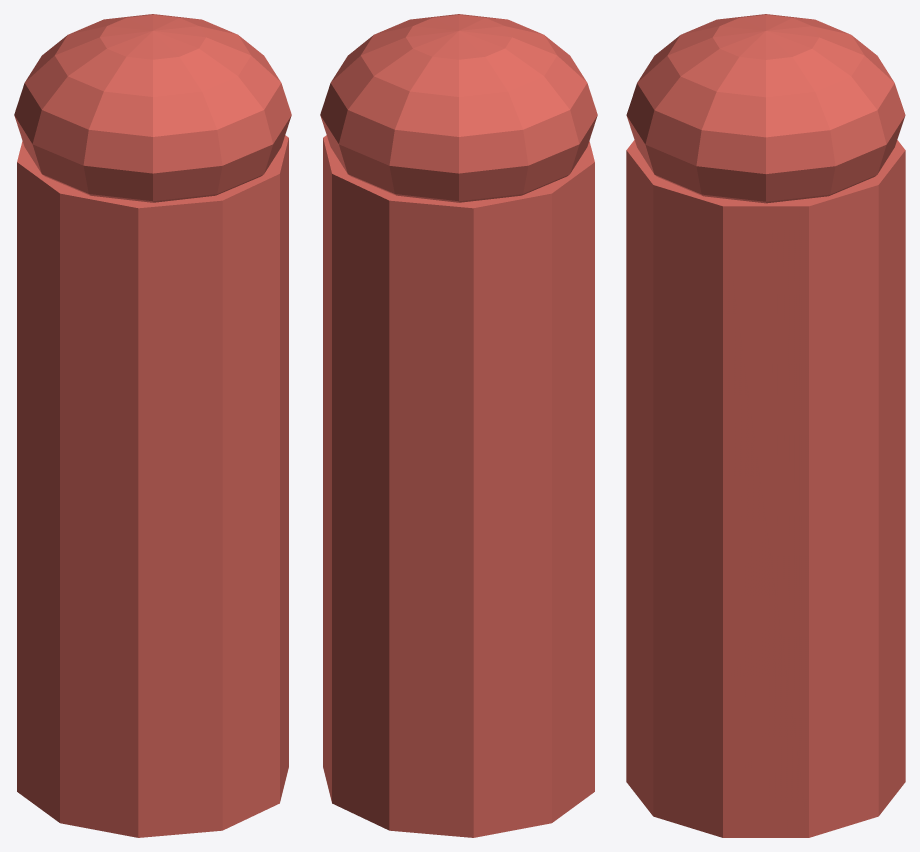
The model's file is fire_hydrant.glb.
The picture shows the model from 3 angles, left to right: view 1: azimuth 30°, elevation 25°; view 2: azimuth 150°, elevation 25°; view 3: azimuth 270°, elevation 25°; orthographic projection.
Parts seen in each view (by area): view 1: body, cap; view 2: body, cap; view 3: body, cap.
Boxes of the visible parts, bbox=[...] form: body: bbox=[17, 135, 288, 837]; cap: bbox=[14, 14, 291, 202]; body: bbox=[323, 135, 594, 837]; cap: bbox=[320, 14, 597, 202]; body: bbox=[626, 140, 905, 837]; cap: bbox=[626, 14, 905, 203].
Bounding box in the file's own units: 0.3604 × 1.07 × 0.3604.
